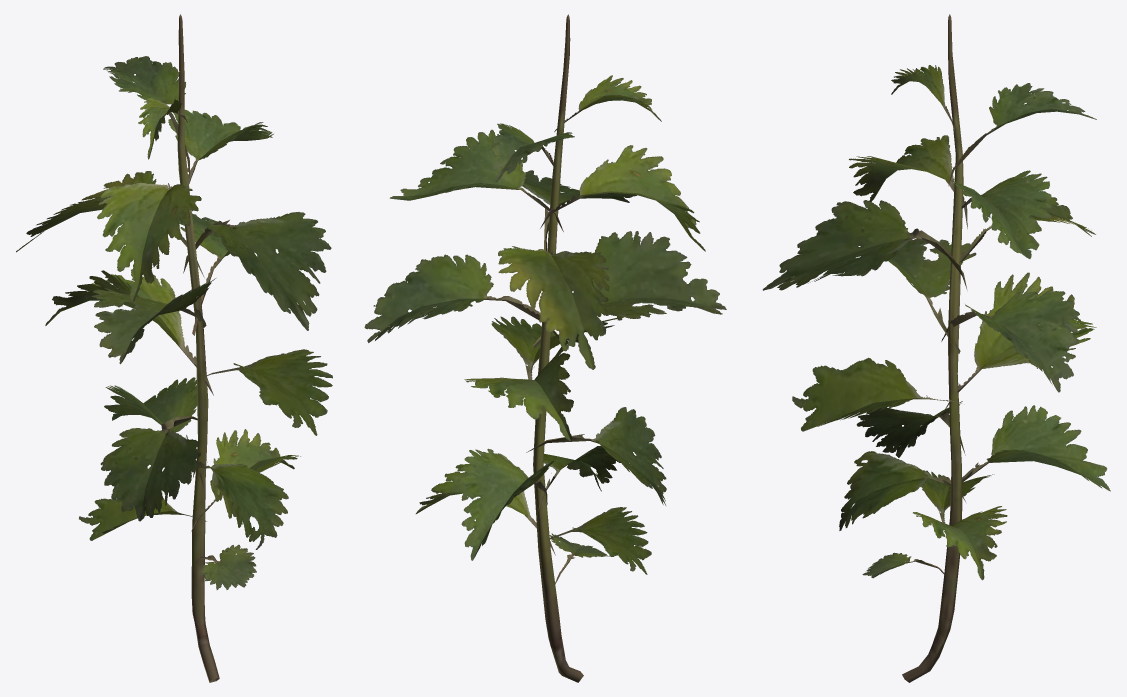
The picture shows the model from 3 angles, left to right: view 1: azimuth 30°, elevation 25°; view 2: azimuth 150°, elevation 25°; view 3: azimuth 270°, elevation 25°; orthographic projection. The views are drawn at different scales.
Parts seen in each view (by area): view 1: nettle_plant__d_lod0; view 2: nettle_plant__d_lod0; view 3: nettle_plant__d_lod0.
Boxes of the visible parts, x1,y1,x2,y2 form: nettle_plant__d_lod0: [16, 14, 332, 682]; nettle_plant__d_lod0: [364, 14, 726, 682]; nettle_plant__d_lod0: [762, 14, 1110, 682].
Size of the model in its own units: 0.0874 by 0.209 by 0.1008.
Materials: 1 (1 with a texture image).
